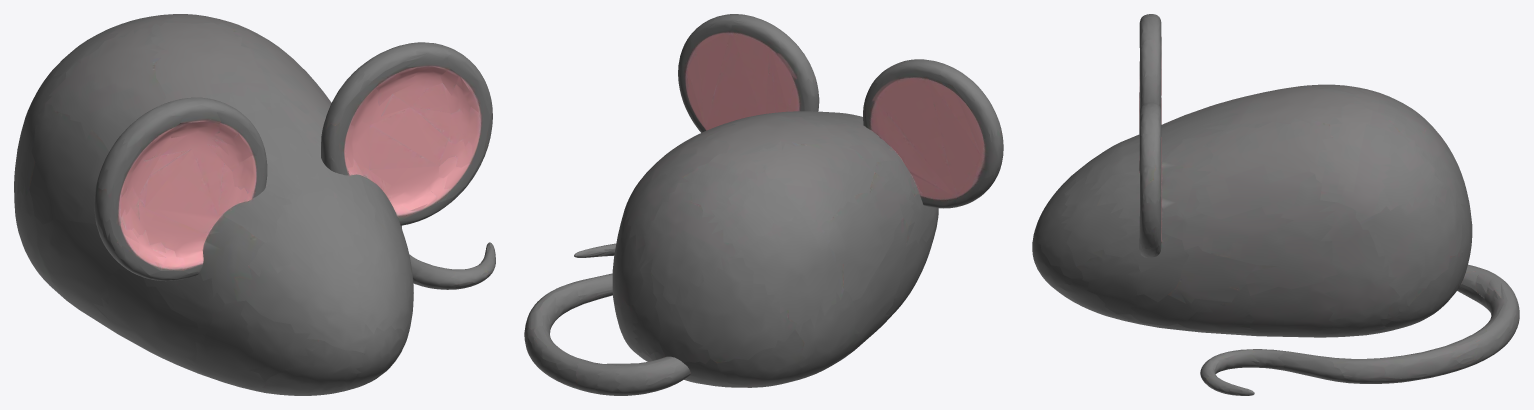
The model's file is muis.glb.
3 views of the same model, side by side, from view 1: azimuth 30°, elevation 25°; view 2: azimuth 150°, elevation 25°; view 3: azimuth 270°, elevation 25° (orthographic). The views are drawn at different scales.
Visible parts, largest first — view 1: Mesh_0; view 2: Mesh_0; view 3: Mesh_0.
Part boxes in pixels (x1,y1,x2,y2): Mesh_0: (14, 14, 495, 395); Mesh_0: (524, 14, 1003, 395); Mesh_0: (1032, 14, 1519, 395).
Size of the model in its own units: 1.66 by 1 by 1.9.
1 material, 1 textured.
